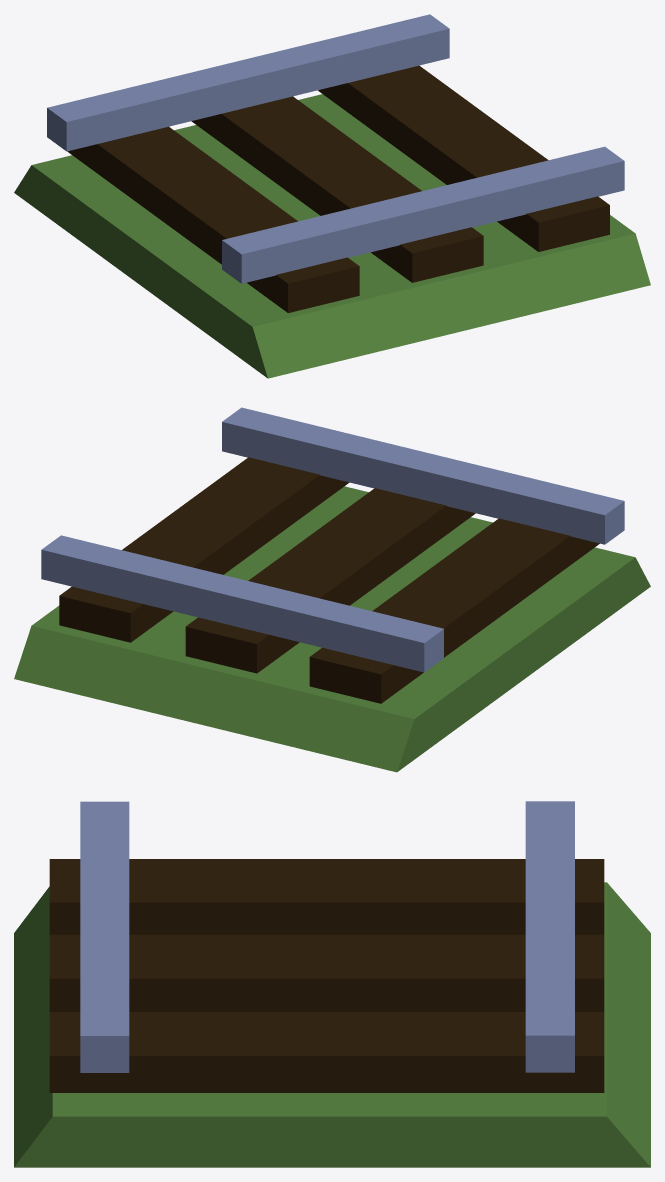
Rendered from empty_track.obj.
3 views of the same model, one above another, from view 1: azimuth 30°, elevation 25°; view 2: azimuth 150°, elevation 25°; view 3: azimuth 270°, elevation 25° (orthographic). The views are drawn at different scales.
Parts seen in each view (by area): view 1: Cube.005, Cube.001, Cube, Cube.002, Cube.004, Cube.003; view 2: Cube.005, Cube.001, Cube, Cube.002, Cube.004, Cube.003; view 3: Cube.005, Cube.003, Cube.004, Cube.002, Cube.001, Cube.
Boxes of the visible parts, left/top/right/bottom form: Cube.005: left=14, top=94, right=650, bottom=378; Cube.001: left=47, top=14, right=449, bottom=151; Cube: left=222, top=146, right=624, bottom=283; Cube.002: left=67, top=126, right=359, bottom=312; Cube.004: left=191, top=96, right=483, bottom=282; Cube.003: left=318, top=65, right=609, bottom=251; Cube.005: left=14, top=486, right=650, bottom=772; Cube.001: left=41, top=535, right=443, bottom=672; Cube: left=222, top=407, right=624, bottom=544; Cube.002: left=309, top=518, right=599, bottom=703; Cube.004: left=185, top=488, right=475, bottom=673; Cube.003: left=59, top=457, right=349, bottom=642; Cube.005: left=14, top=882, right=650, bottom=1167; Cube.003: left=49, top=1012, right=604, bottom=1092; Cube.004: left=49, top=934, right=604, bottom=1011; Cube.002: left=49, top=859, right=604, bottom=934; Cube.001: left=525, top=801, right=574, bottom=1072; Cube: left=80, top=801, right=129, bottom=1072.
Size of the model in its own units: 2.01 by 0.5313 by 2.3.
